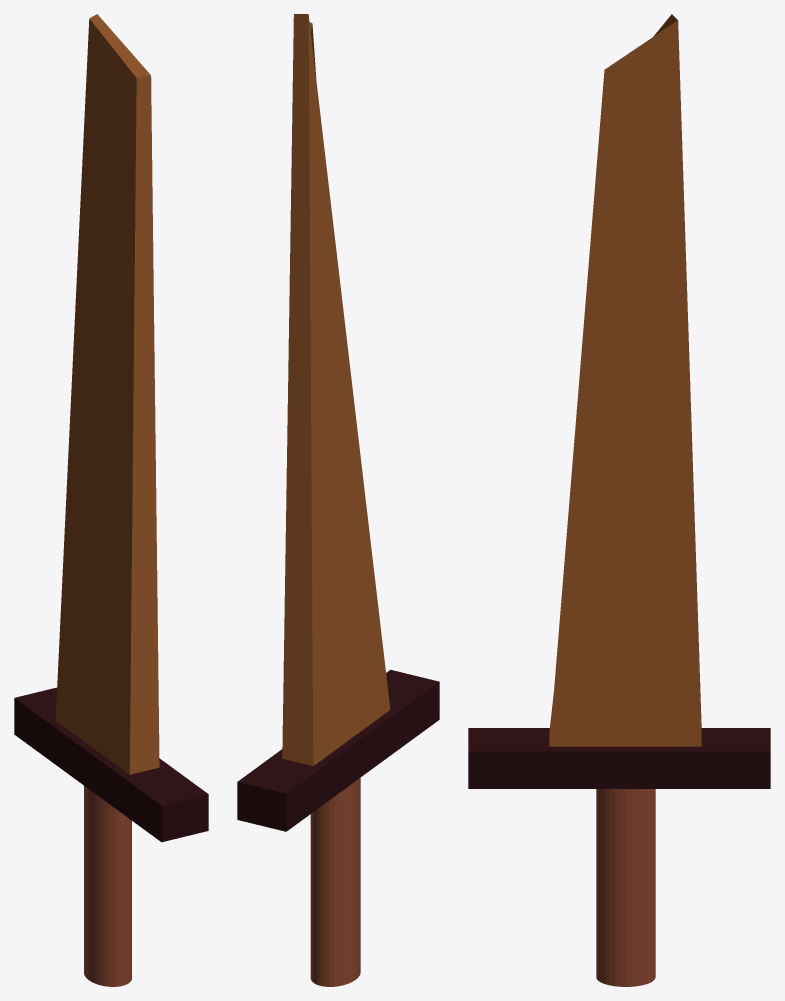
The model's file is sword.glb.
3 views of the same model, side by side, from view 1: azimuth 30°, elevation 25°; view 2: azimuth 150°, elevation 25°; view 3: azimuth 270°, elevation 25° (orthographic). The views are drawn at different scales.
Visible parts, largest first — view 1: Cube.001, Cube, Cylinder; view 2: Cube.001, Cube, Cylinder; view 3: Cube.001, Cube, Cylinder.
Boxes of the visible parts, <box> form: Cube.001: <box>55,14,159,774</box>; Cube: <box>14,687,208,842</box>; Cylinder: <box>84,786,131,986</box>; Cube.001: <box>282,14,390,765</box>; Cube: <box>237,669,439,831</box>; Cylinder: <box>310,778,360,986</box>; Cube.001: <box>549,14,701,746</box>; Cube: <box>468,728,770,788</box>; Cylinder: <box>596,789,655,986</box>.
Size of the model in its own units: 0.4379 by 7.04 by 2.
